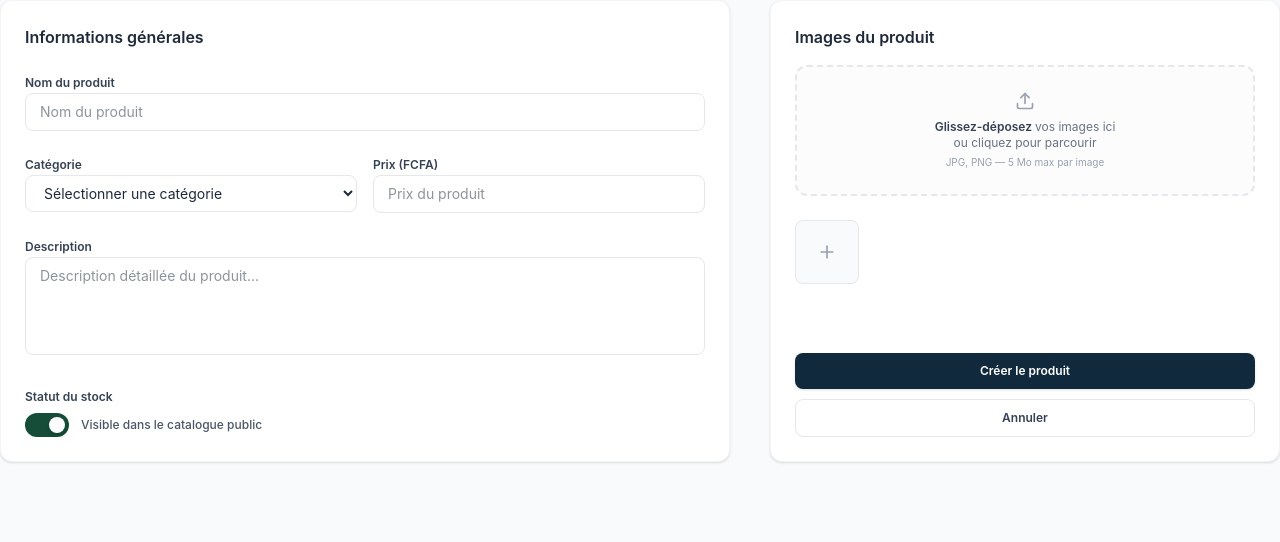
Test: AdminProductForm — sécurité › bloque l'envoi si aucune catégorie sélectionnée
Type "Test" into the field labelled "Nom du produit" at [365, 112], box [25, 93, 705, 131]
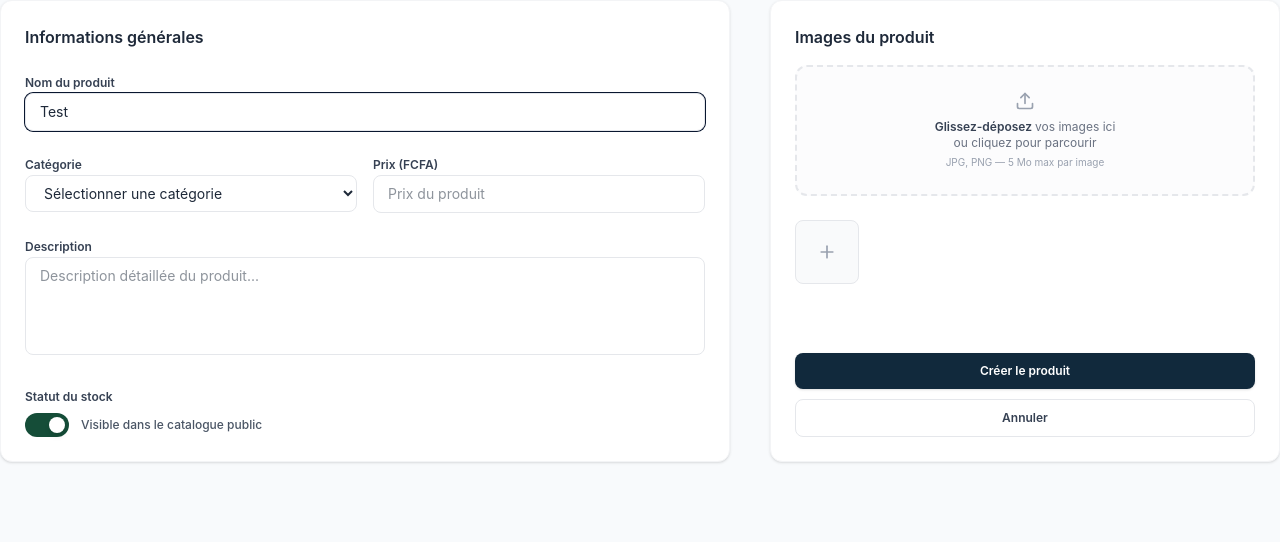
Type "15000" into the number field labelled "Prix (FCFA)" at [539, 194], box [373, 175, 705, 213]
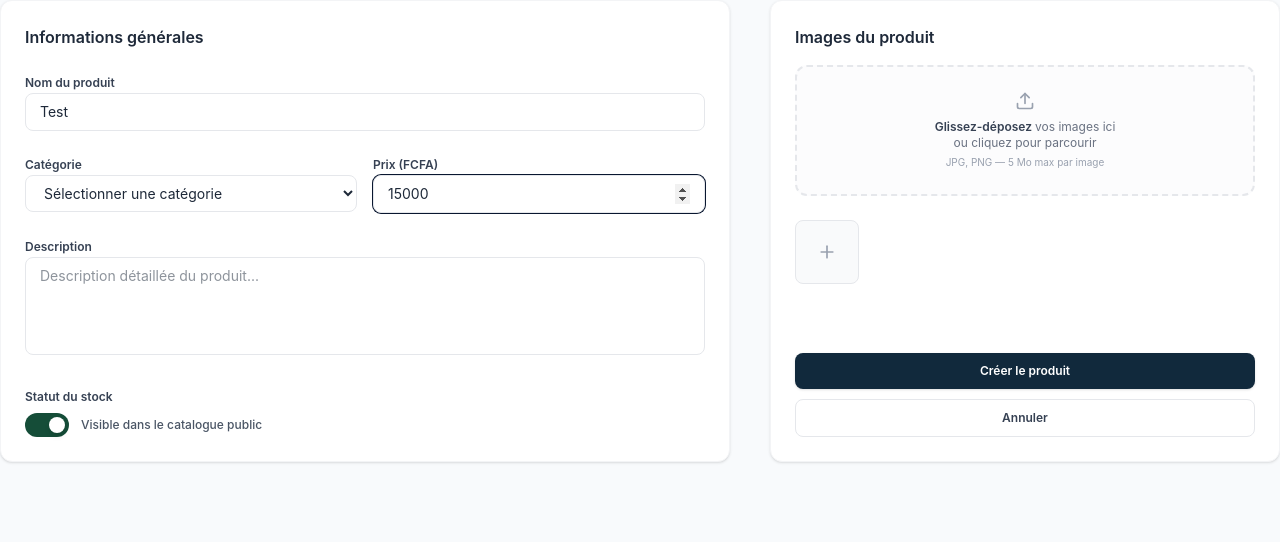
Click the button "Créer le produit" at [1025, 371], box [795, 353, 1255, 389]
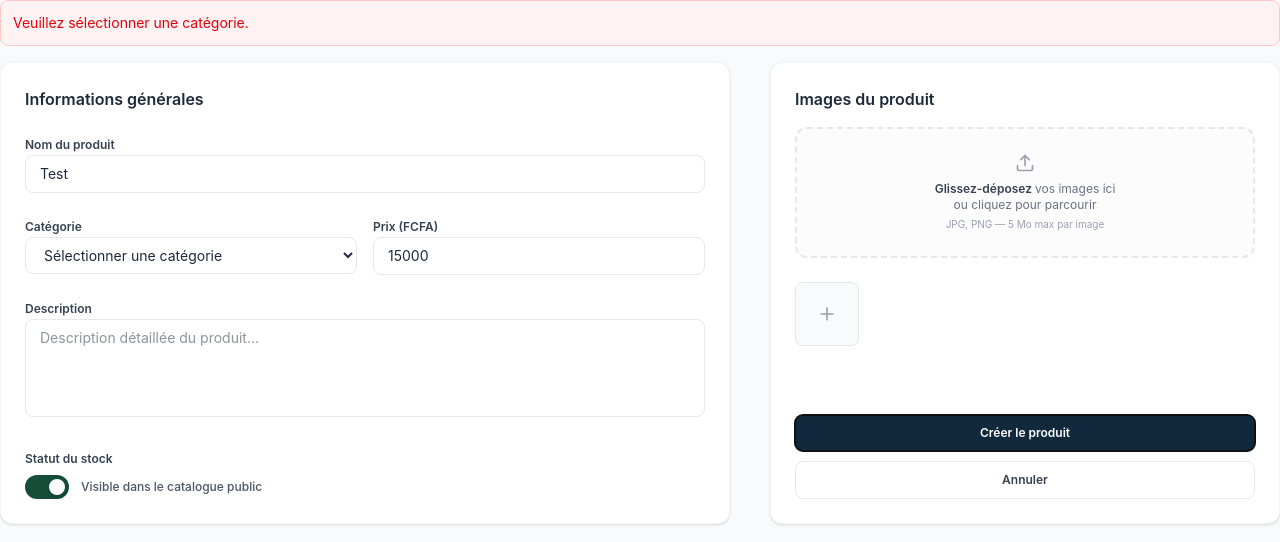
Now the message shows "catégorie", box [13, 14, 249, 31]
